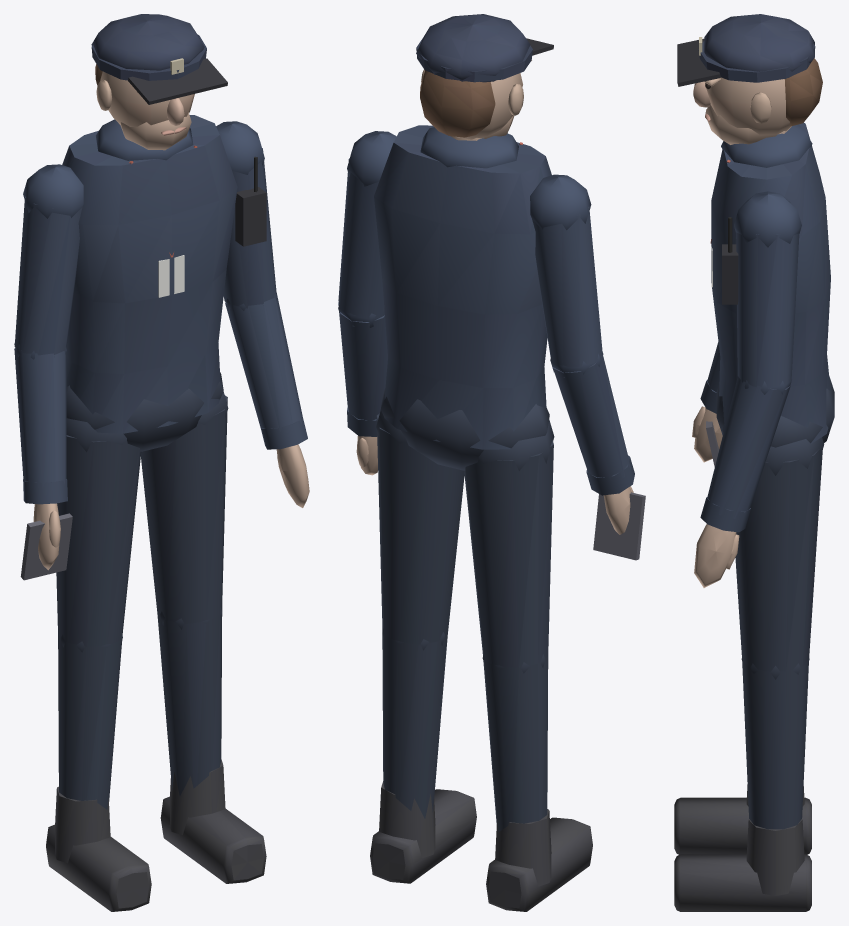
File: rennick_uniform_a.glb
3 renders of one model, left to right at view 1: azimuth 30°, elevation 25°; view 2: azimuth 150°, elevation 25°; view 3: azimuth 270°, elevation 25°, orthographic.
Parts seen in each view (by area): view 1: body; view 2: body; view 3: body.
Boxes of the visible parts, x1,y1,x2,y2 form: body: (14,14,309,911); body: (338,14,645,911); body: (674,14,834,911).
Size of the model in its own units: 0.6034 by 1.71 by 0.2918.
